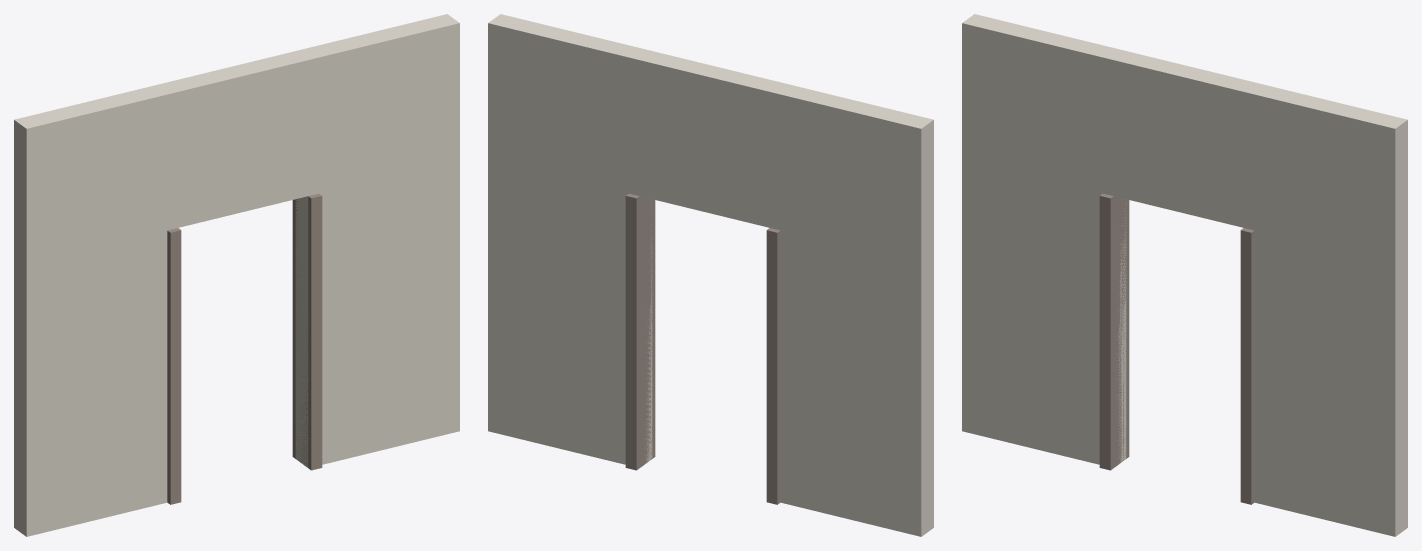
Rendered from door.glb.
3 renders of one model, left to right at view 1: azimuth 30°, elevation 25°; view 2: azimuth 150°, elevation 25°; view 3: azimuth 330°, elevation 25°, orthographic.
Visible parts, largest first — view 1: DOOR; view 2: DOOR; view 3: DOOR.
Boxes of the visible parts, x1,y1,x2,y2 form: DOOR: (14,14,459,536); DOOR: (488,14,933,536); DOOR: (962,14,1407,536).
Bounding box in the file's own units: 4 × 3.6 × 0.3.
